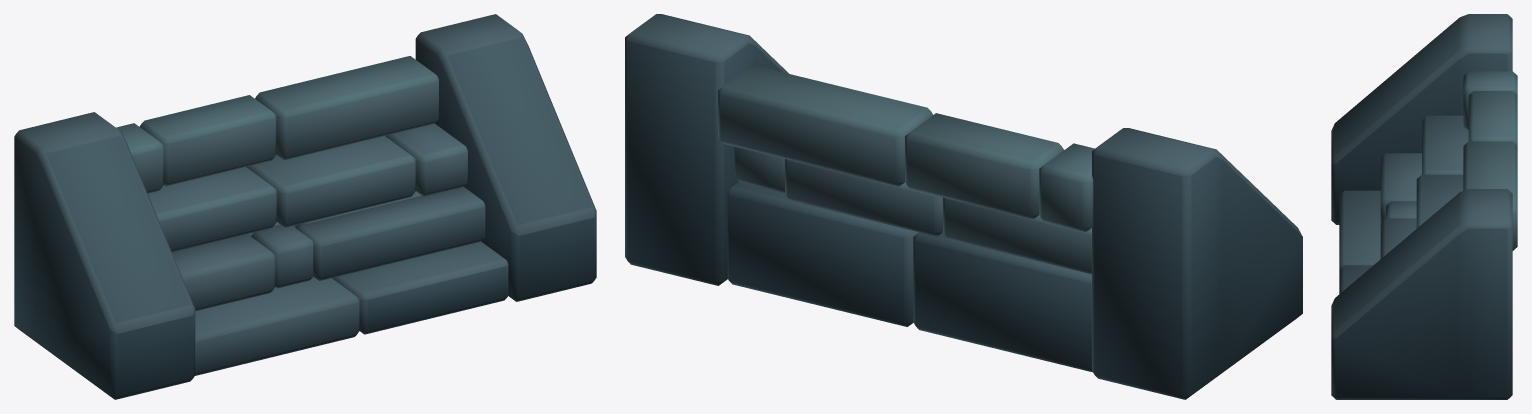
File: stairs_set_02.fbx
3 renders of one model, left to right at view 1: azimuth 30°, elevation 25°; view 2: azimuth 150°, elevation 25°; view 3: azimuth 270°, elevation 25°, orthographic. The views are drawn at different scales.
Parts seen in each view (by area): view 1: stairs_set_02; view 2: stairs_set_02; view 3: stairs_set_02.
Boxes of the visible parts, left/top/right/bottom form: stairs_set_02: left=14, top=14, right=596, bottom=399; stairs_set_02: left=625, top=14, right=1302, bottom=399; stairs_set_02: left=1331, top=14, right=1517, bottom=399.
Size of the model in its own units: 303 by 119 by 113.
